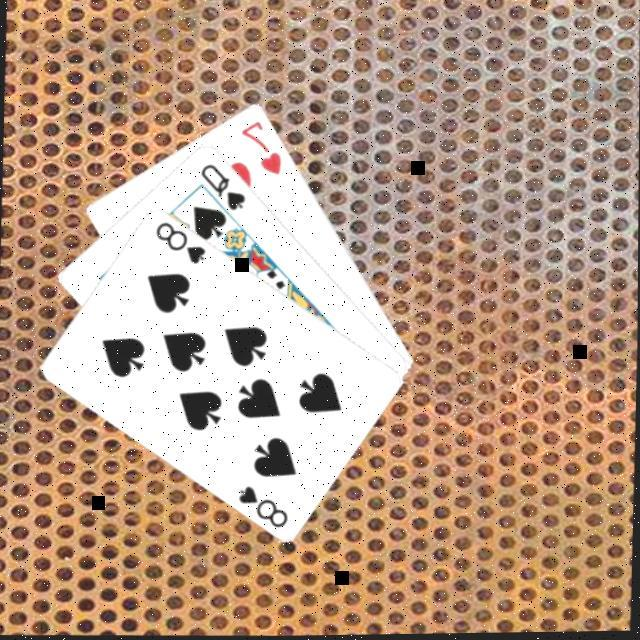7H: (237, 118, 286, 180)
8S: (152, 219, 210, 269), (235, 483, 292, 533)
QS: (197, 162, 250, 216)
